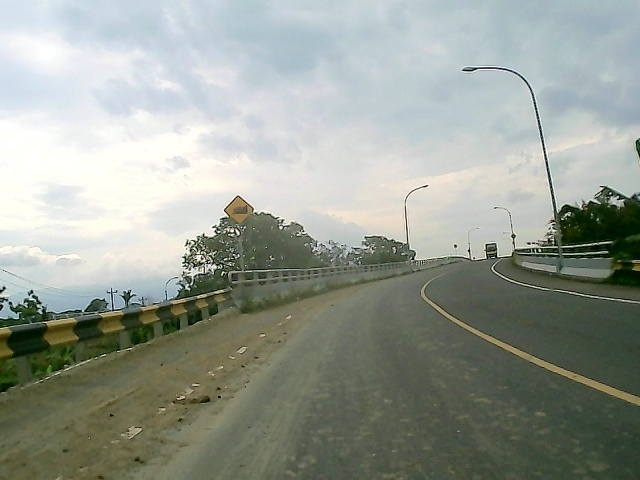Jalanan menanjak: (224, 194, 256, 226)
